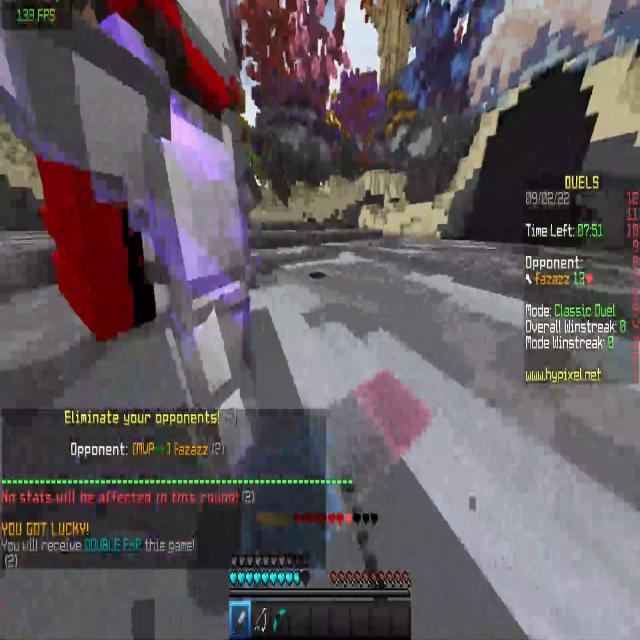Player: (0, 0, 265, 471)
